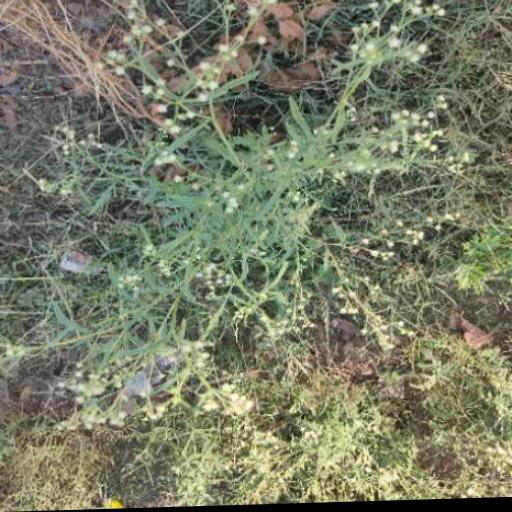weed: (0, 1, 492, 507)
